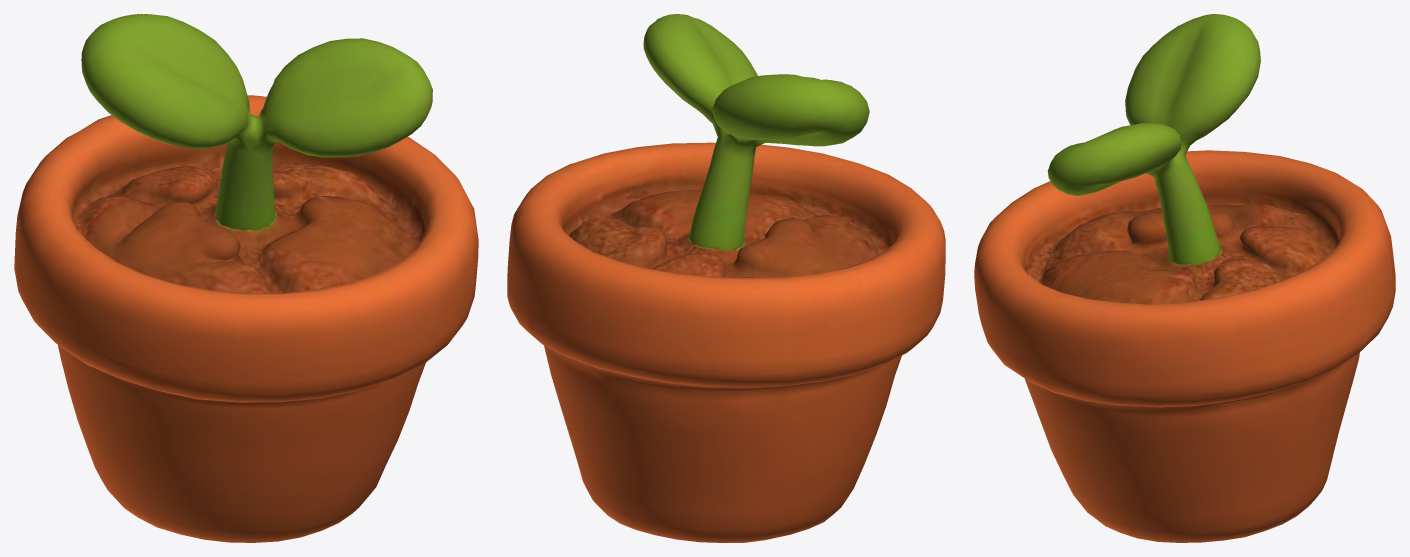
File: sprout-pot.361225ec.glb
3 renders of one model, left to right at view 1: azimuth 30°, elevation 25°; view 2: azimuth 150°, elevation 25°; view 3: azimuth 270°, elevation 25°, orthographic. The views are drawn at different scales.
Visible parts, largest first — view 1: tripo_node_74f5333a-364c-4cf9-923b-03a2df678219; view 2: tripo_node_74f5333a-364c-4cf9-923b-03a2df678219; view 3: tripo_node_74f5333a-364c-4cf9-923b-03a2df678219.
Part boxes in pixels (x1,y1,x2,y2): tripo_node_74f5333a-364c-4cf9-923b-03a2df678219: (14,14,478,542); tripo_node_74f5333a-364c-4cf9-923b-03a2df678219: (507,14,945,542); tripo_node_74f5333a-364c-4cf9-923b-03a2df678219: (974,14,1395,542).
Bounding box in the file's own units: 0.8613 × 0.998 × 0.873.
Materials: 1 (1 with a texture image).
